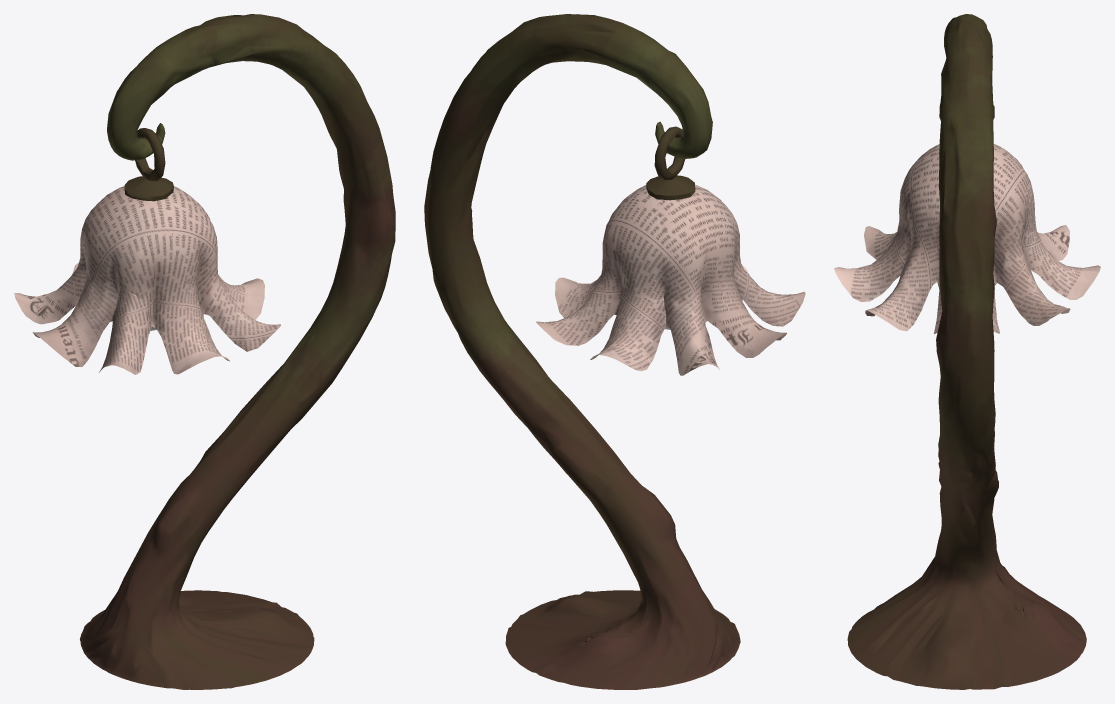
The model's file is LightsPunctualLamp.fbx.
3 renders of one model, left to right at view 1: azimuth 30°, elevation 25°; view 2: azimuth 150°, elevation 25°; view 3: azimuth 270°, elevation 25°, orthographic.
Visible parts, largest first — view 1: Mesh_0, Mesh_2; view 2: Mesh_0, Mesh_2; view 3: Mesh_0, Mesh_2.
Part boxes in pixels (box(x1,y1,x2,y2)): Mesh_0: box(80, 14, 395, 689); Mesh_2: box(14, 186, 280, 374); Mesh_0: box(424, 14, 740, 689); Mesh_2: box(536, 184, 805, 375); Mesh_0: box(847, 14, 1086, 689); Mesh_2: box(834, 144, 1100, 333).
Bounding box in the file's own units: 113 × 186 × 72.16.
